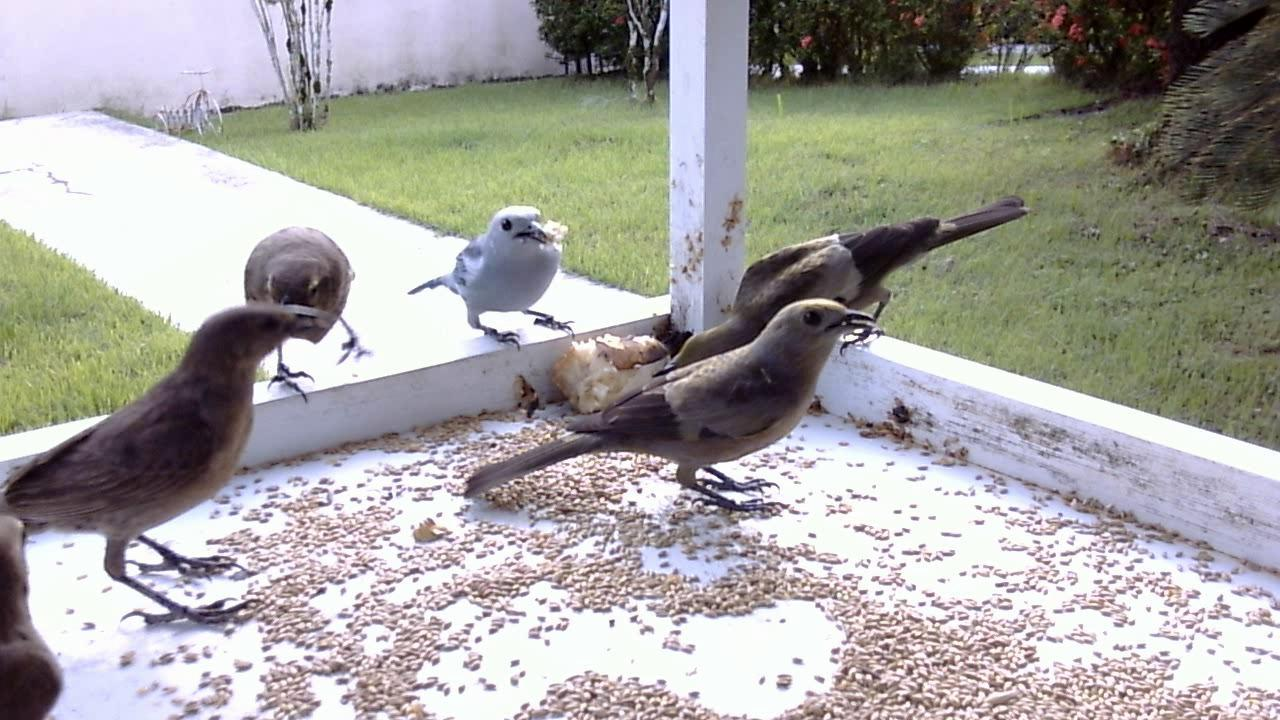chupim: (1, 278, 332, 655), (230, 212, 383, 411)
sanhaco_da_amazonia: (401, 206, 576, 354)
sanhaco_do_coqueiro: (455, 288, 882, 513), (619, 192, 1029, 408)
